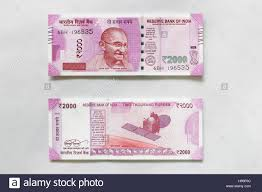twoThousand: (57, 26, 197, 65)
